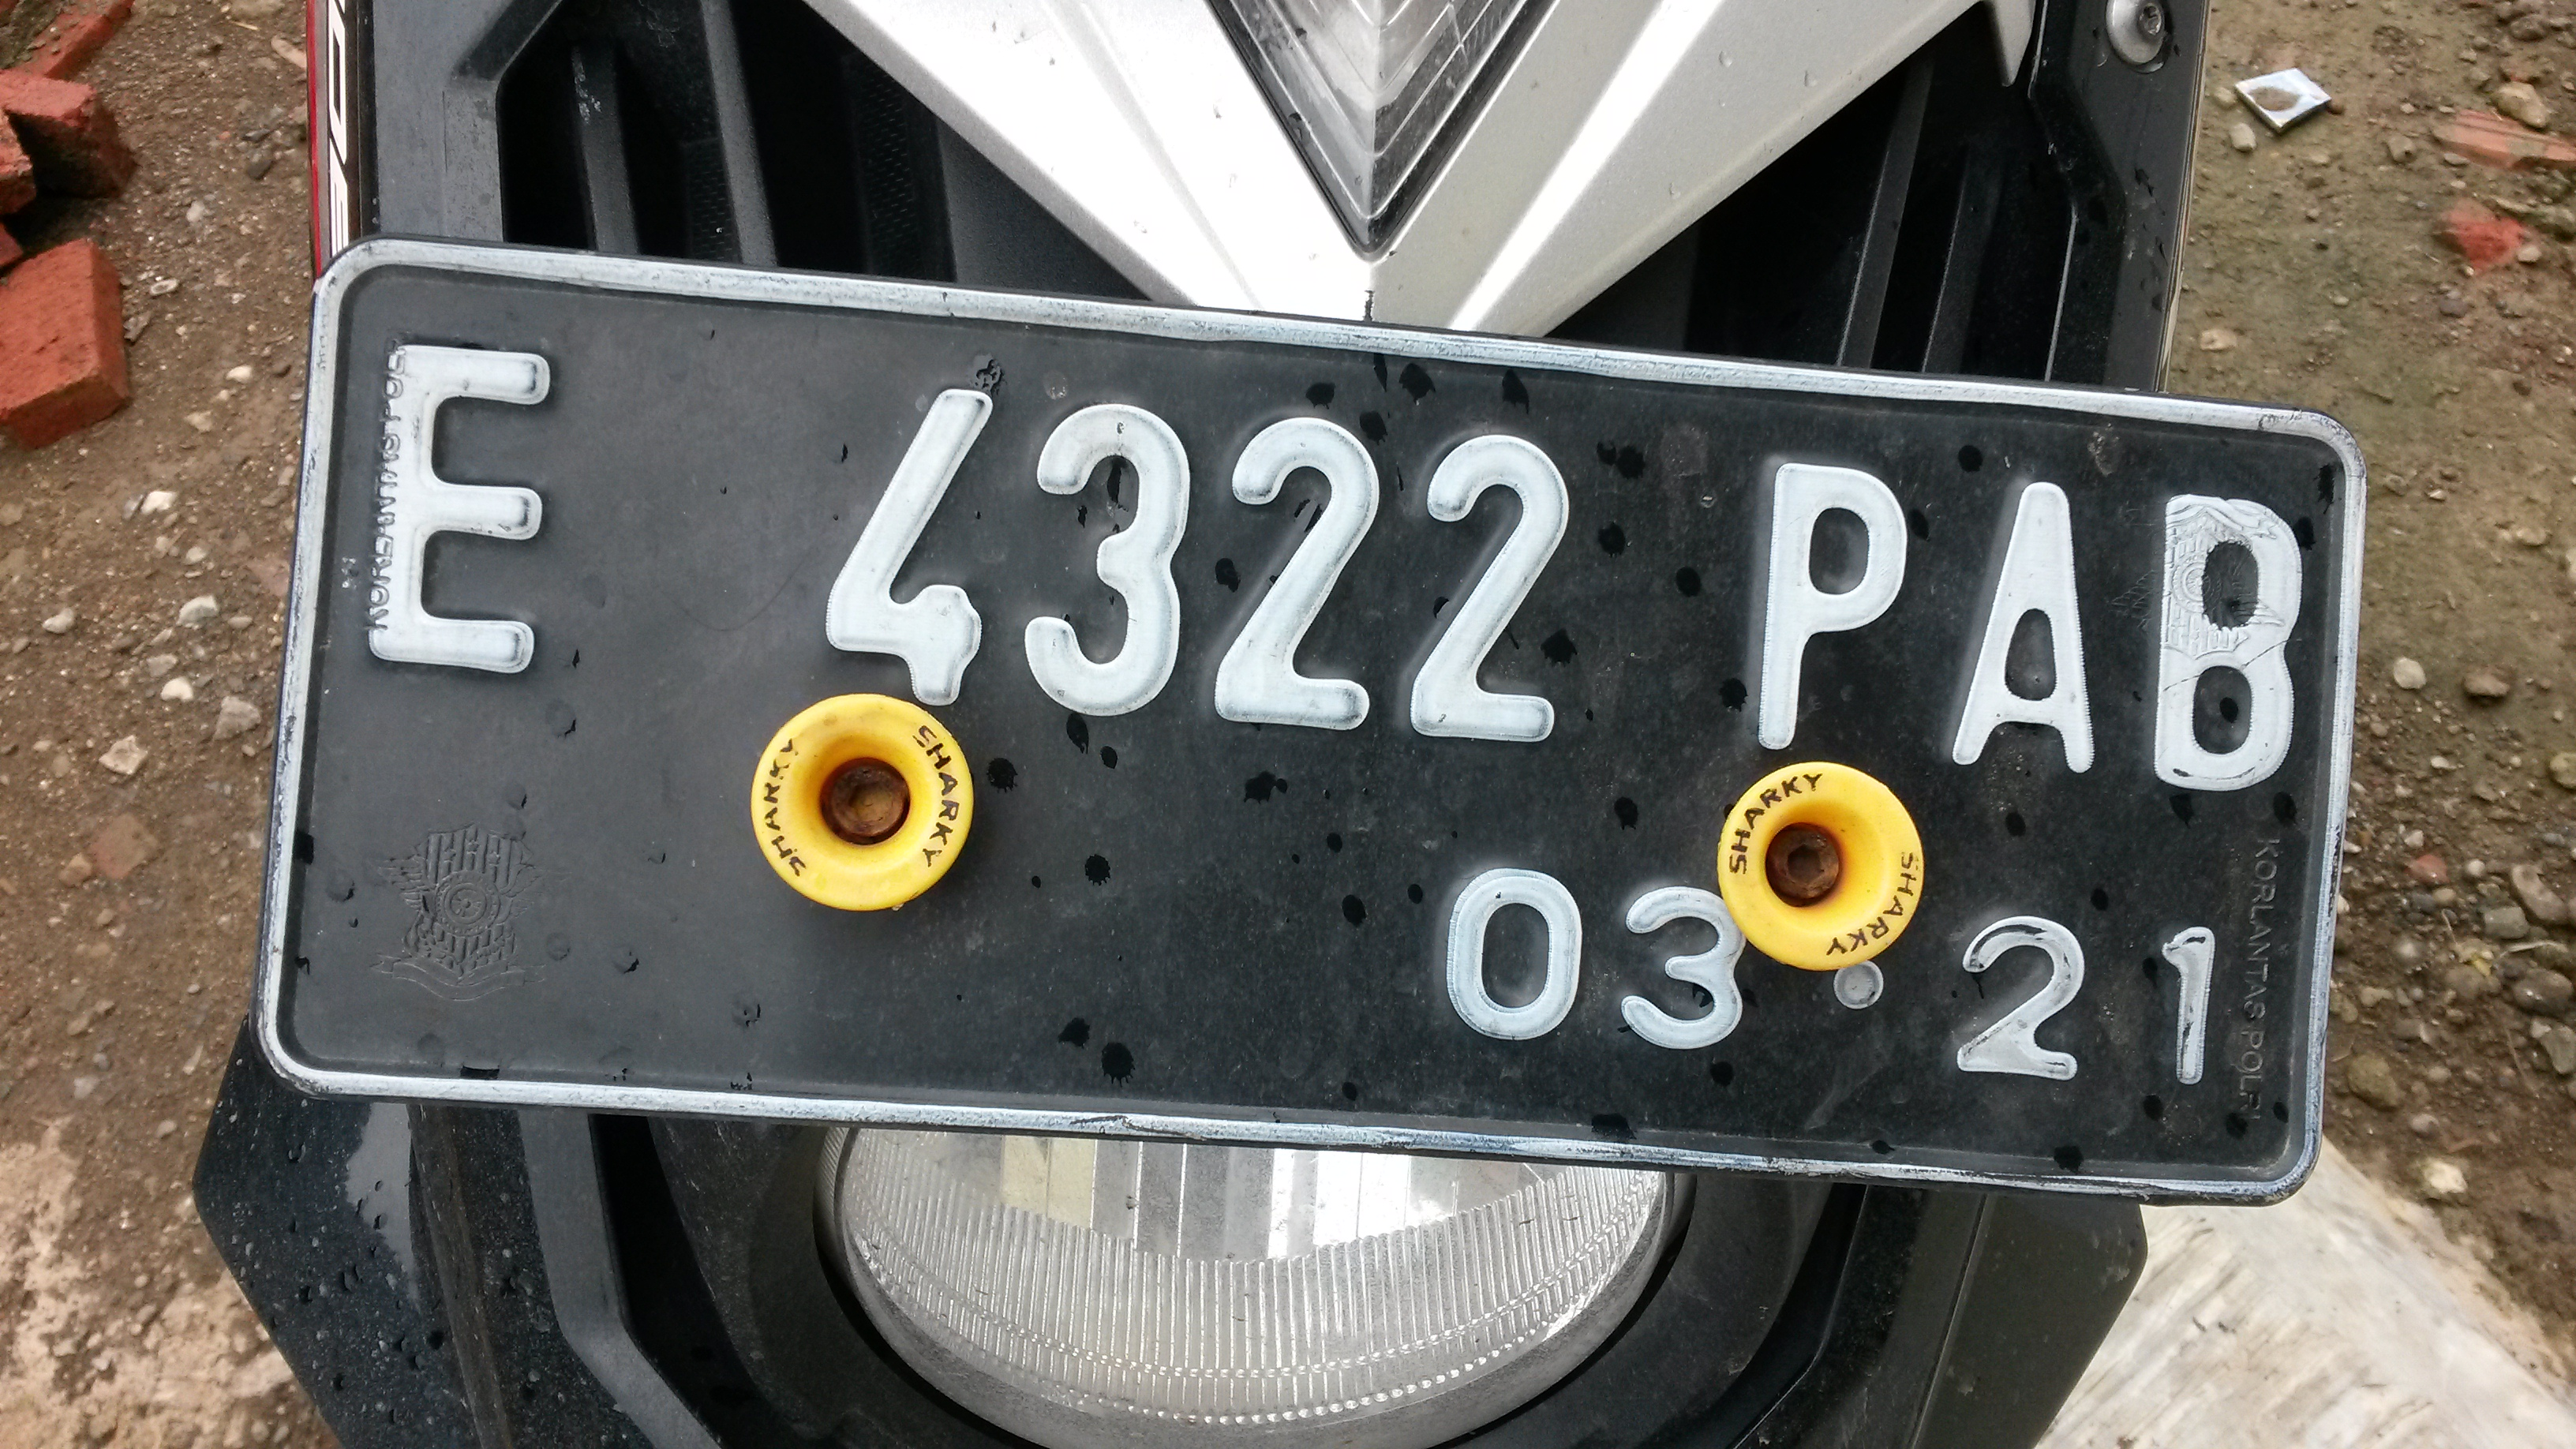plate: (270, 229, 2376, 1230)
